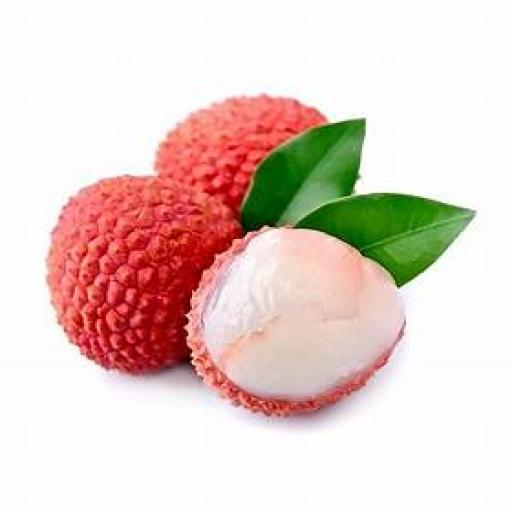lychee: (188, 229, 403, 416), (47, 176, 240, 373), (155, 96, 326, 211)
